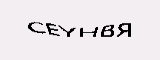М: (57, 24, 82, 47)
Т: (42, 24, 56, 44)
У: (30, 21, 44, 40)
Х: (83, 22, 100, 46)
Ю: (99, 19, 122, 43)
